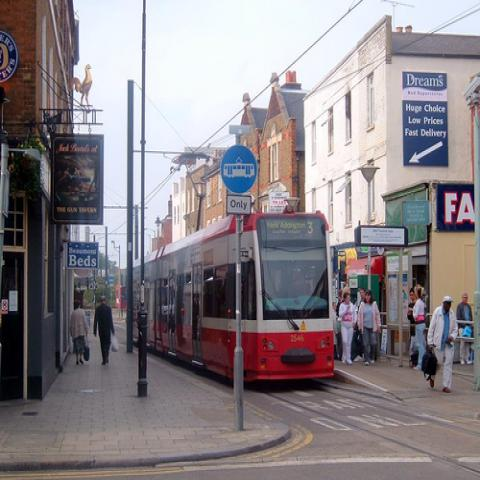bus: (132, 205, 334, 382)
